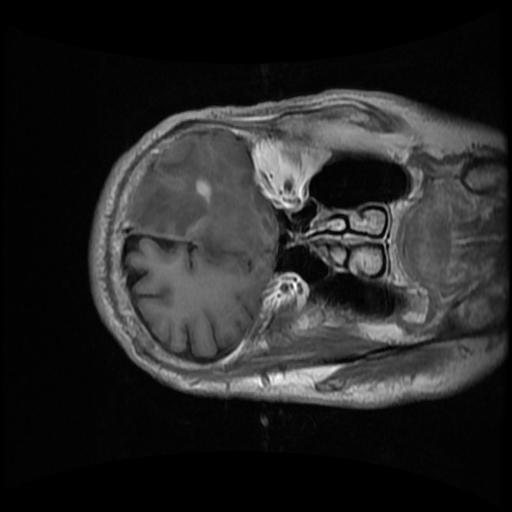glioma: (127, 136, 272, 274)
